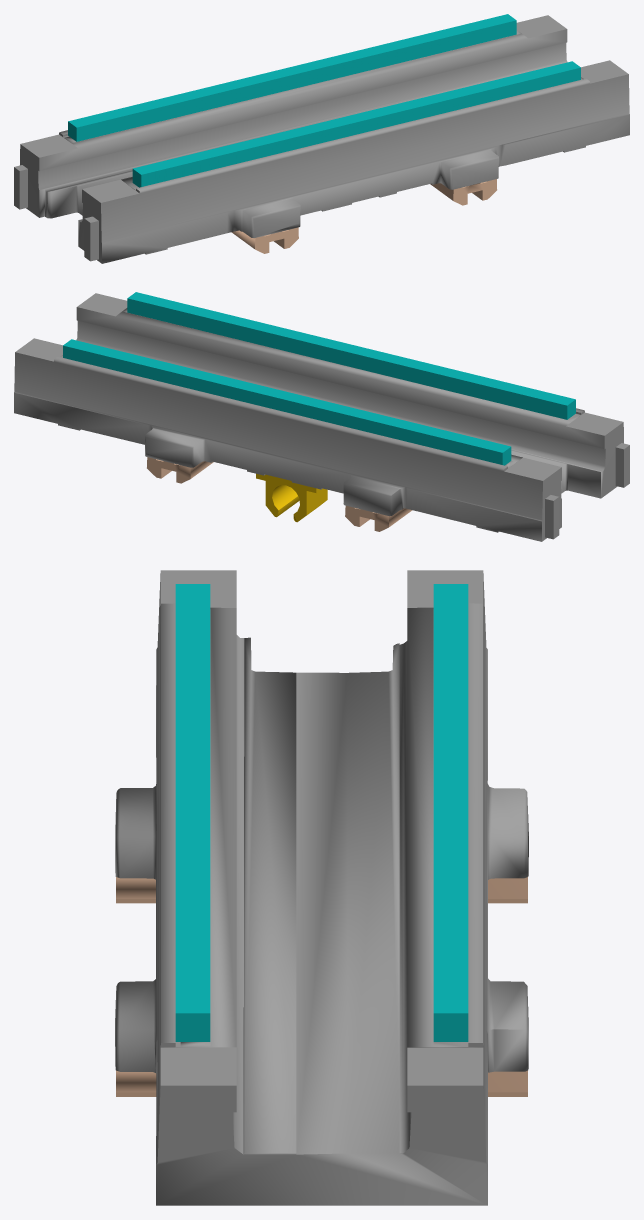
The model's file is saddle.dae.
The picture shows the model from 3 angles, top to bottom: view 1: azimuth 30°, elevation 25°; view 2: azimuth 150°, elevation 25°; view 3: azimuth 270°, elevation 25°; orthographic projection. The views are drawn at different scales.
Visible parts, largest first — view 1: Saddle; view 2: Saddle; view 3: Saddle.
Boxes of the visible parts, x1=… form: Saddle: x1=14, y1=14, x2=629, y2=263; Saddle: x1=14, y1=292, x2=629, y2=541; Saddle: x1=115, y1=570, x2=528, y2=1205.
Size of the model in its own units: 1.22 by 0.4073 by 0.267.
